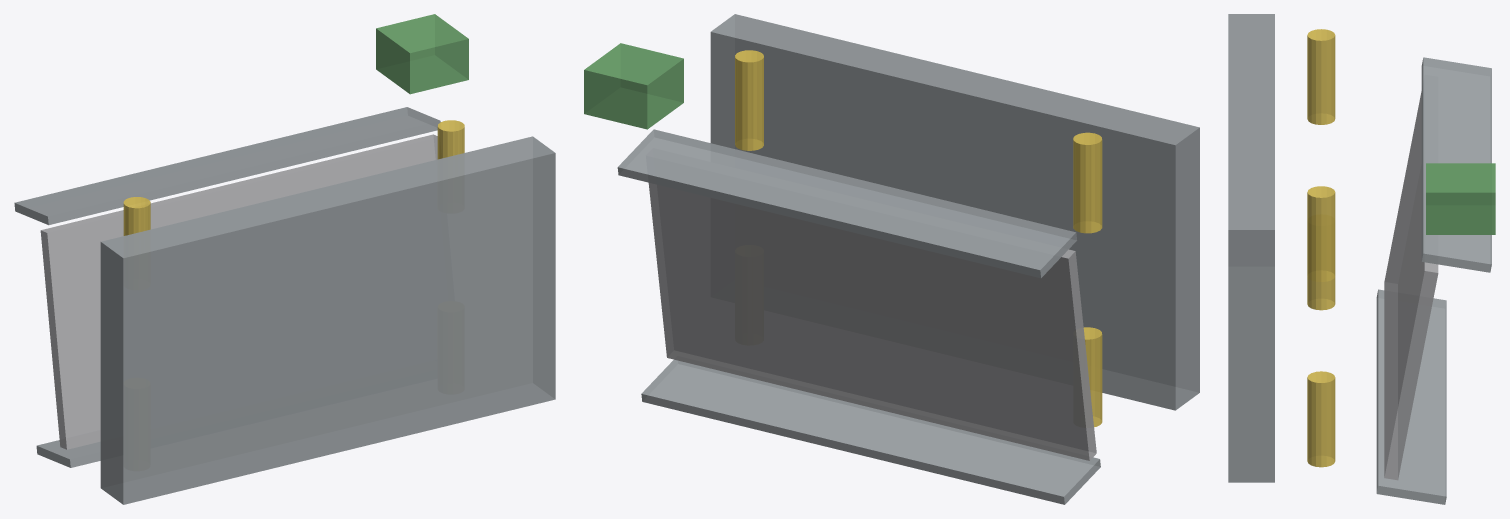
The model's file is vibrating_screen.glb.
3 views of the same model, side by side, from view 1: azimuth 30°, elevation 25°; view 2: azimuth 150°, elevation 25°; view 3: azimuth 270°, elevation 25° (orthographic). The views are drawn at different scales.
Parts seen in each view (by area): view 1: Base, ScreenDeck, Wall_2.8, VibroMotor, Wall_-2.8, Spring_4_2.2, Spring_-4_2.2; view 2: Base, ScreenDeck, Wall_2.8, Wall_-2.8, VibroMotor, Spring_-4_2.2, Spring_4_2.2, Spring_-4_-2.2; view 3: Base, ScreenDeck, Wall_2.8, Wall_-2.8, VibroMotor, Spring_4_-2.2, Spring_4_2.2, Spring_-4_2.2, Spring_-4_-2.2.
Part boxes in pixels (x1,y1,x2,y2): Base: (100, 136, 555, 504); ScreenDeck: (40, 134, 437, 449); Wall_2.8: (14, 107, 440, 225); VibroMotor: (376, 14, 468, 94); Wall_-2.8: (36, 440, 100, 467); Spring_4_2.2: (437, 120, 464, 159); Spring_-4_2.2: (123, 197, 150, 235); Base: (710, 14, 1199, 410); ScreenDeck: (648, 183, 1096, 460); Wall_2.8: (617, 129, 1077, 278); Wall_-2.8: (641, 359, 1100, 504); VibroMotor: (584, 43, 683, 129); Spring_-4_2.2: (1073, 132, 1102, 233); Spring_4_2.2: (735, 50, 763, 150); Spring_-4_-2.2: (1083, 327, 1102, 427); Base: (1228, 14, 1274, 482); ScreenDeck: (1384, 91, 1438, 480); Wall_2.8: (1421, 57, 1491, 272); Wall_-2.8: (1376, 289, 1446, 504); VibroMotor: (1426, 163, 1495, 234); Spring_4_-2.2: (1307, 371, 1335, 467); Spring_4_2.2: (1307, 186, 1335, 281); Spring_-4_2.2: (1307, 29, 1335, 124); Spring_-4_-2.2: (1307, 276, 1335, 310).
Size of the model in its own units: 11.25 by 7.77 by 5.75.
